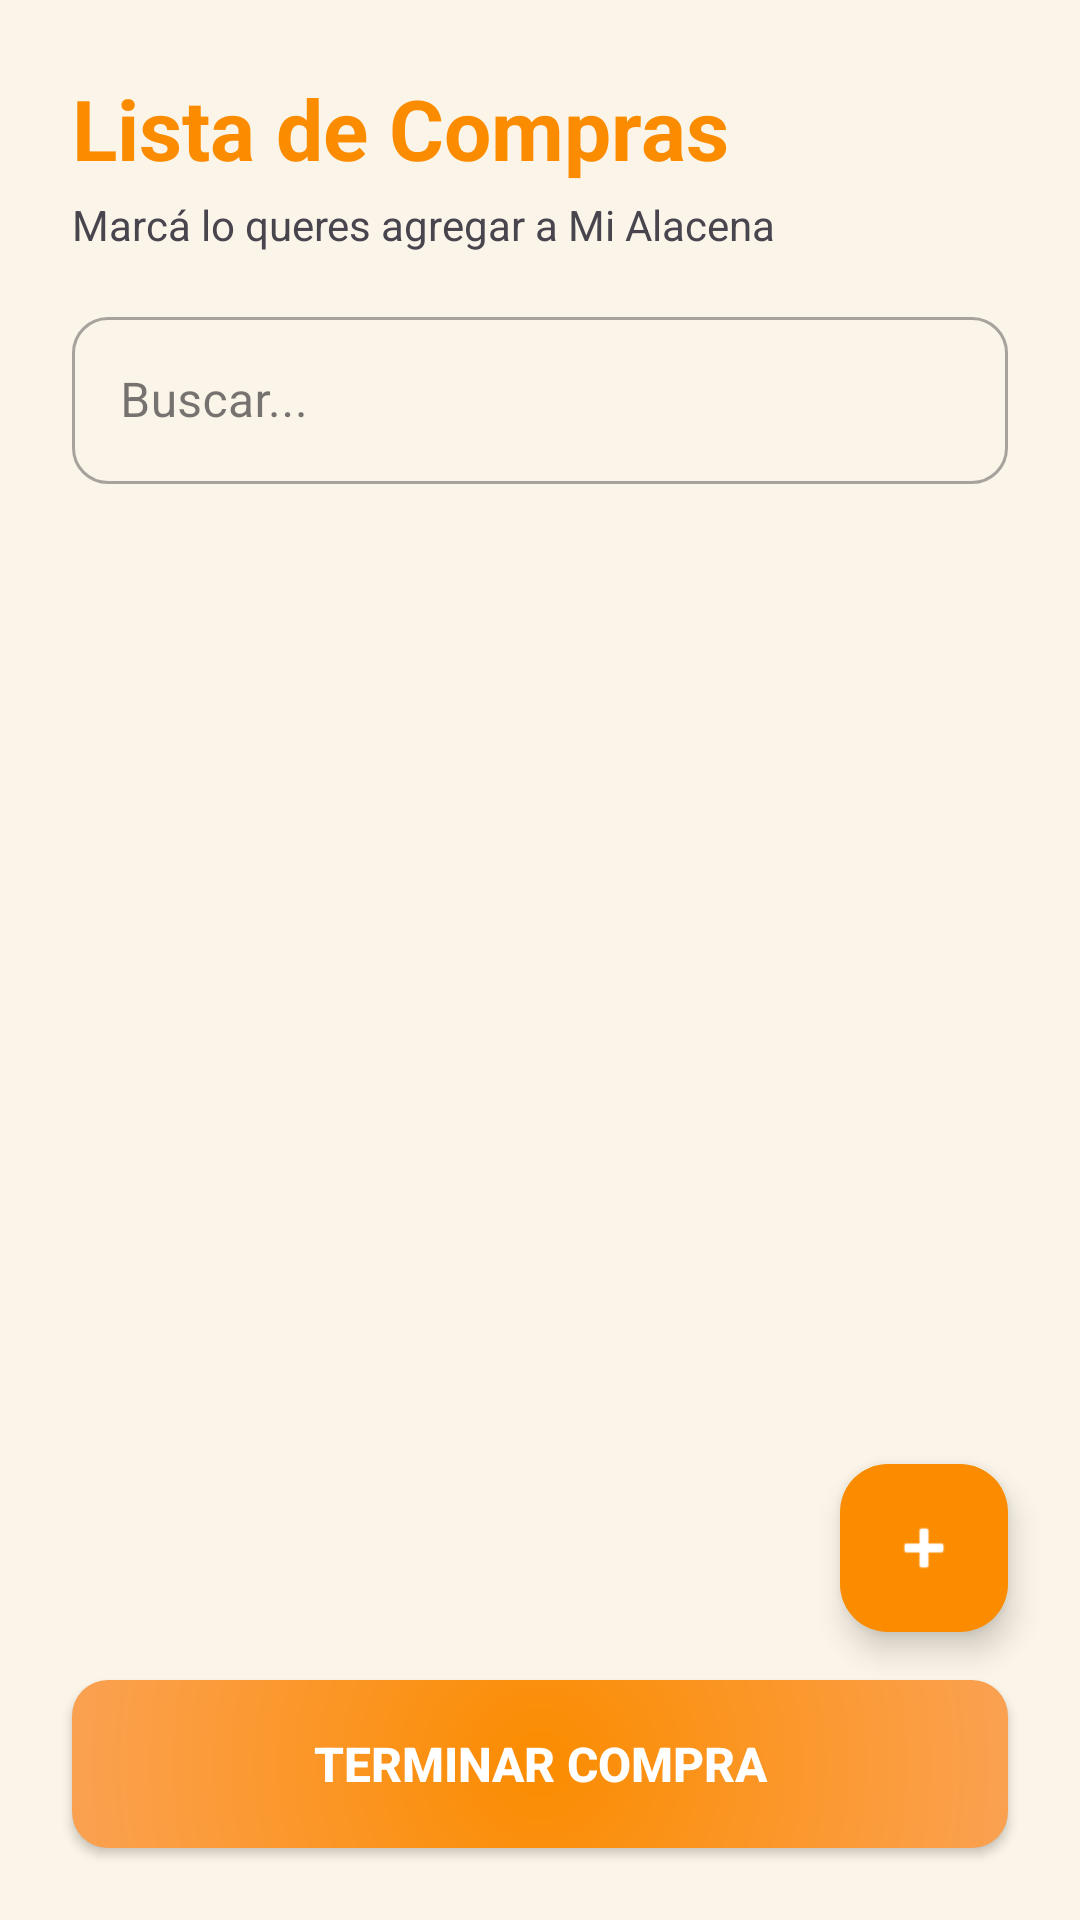

Named icons in this screenshot (1080w x 1920h) and their bounding boxes, detection(x1, y1, x2, y2):
add: detection(840, 1464, 1008, 1632)
